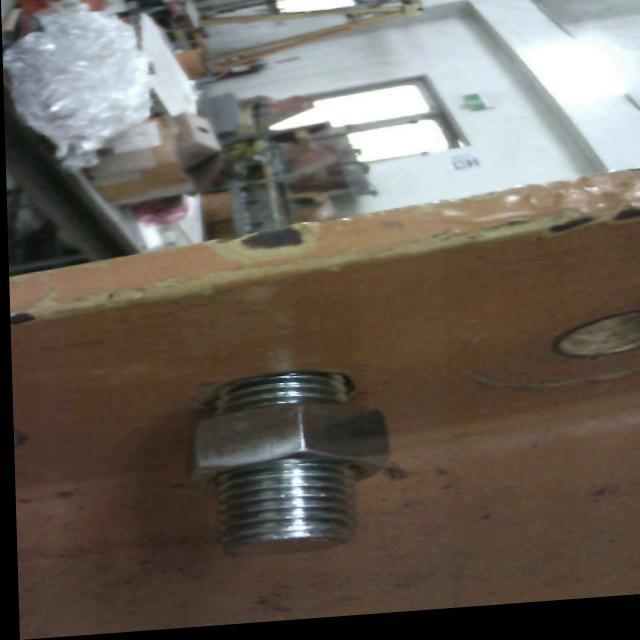Loose bolt: (190, 367, 388, 563)
Missing bolt: (551, 314, 640, 371)
Regular bolt: (193, 361, 387, 560)
